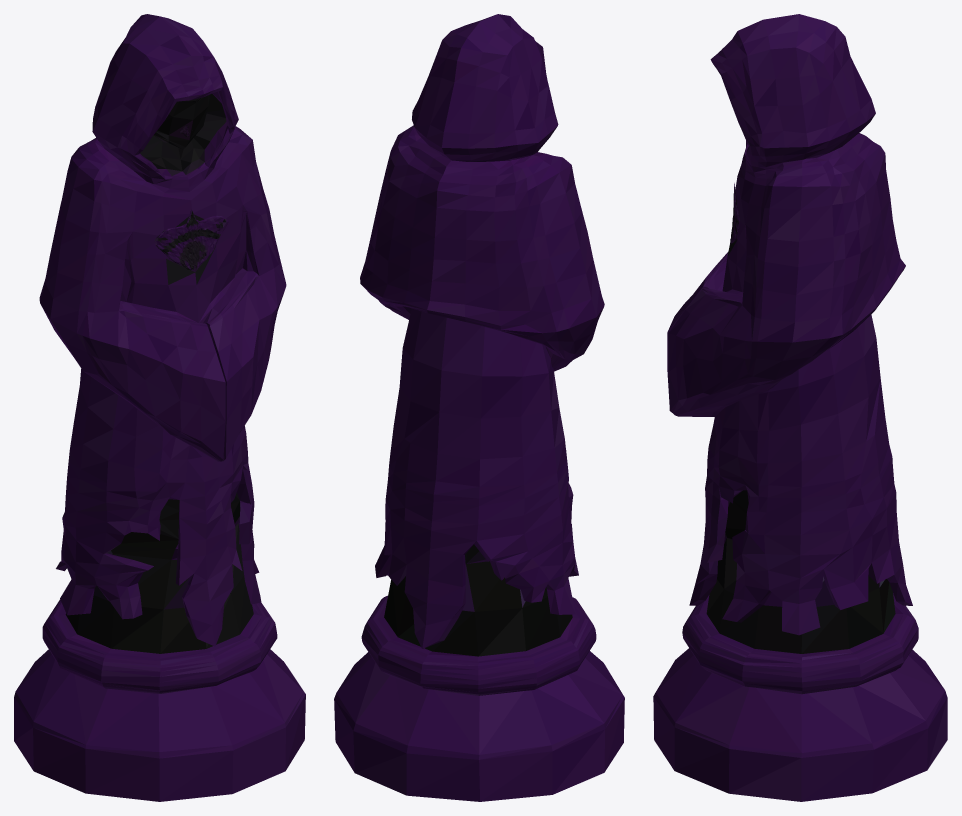
Rendered from occultiste.glb.
The picture shows the model from 3 angles, left to right: view 1: azimuth 30°, elevation 25°; view 2: azimuth 150°, elevation 25°; view 3: azimuth 270°, elevation 25°; orthographic projection.
Parts seen in each view (by area): view 1: mesh_node; view 2: mesh_node; view 3: mesh_node.
Boxes of the visible parts, left/top/right/bottom form: mesh_node: left=14, top=14, right=305, bottom=801; mesh_node: left=334, top=14, right=624, bottom=801; mesh_node: left=653, top=14, right=947, bottom=801.
Bounding box in the file's own units: 0.3652 × 1 × 0.3672.
